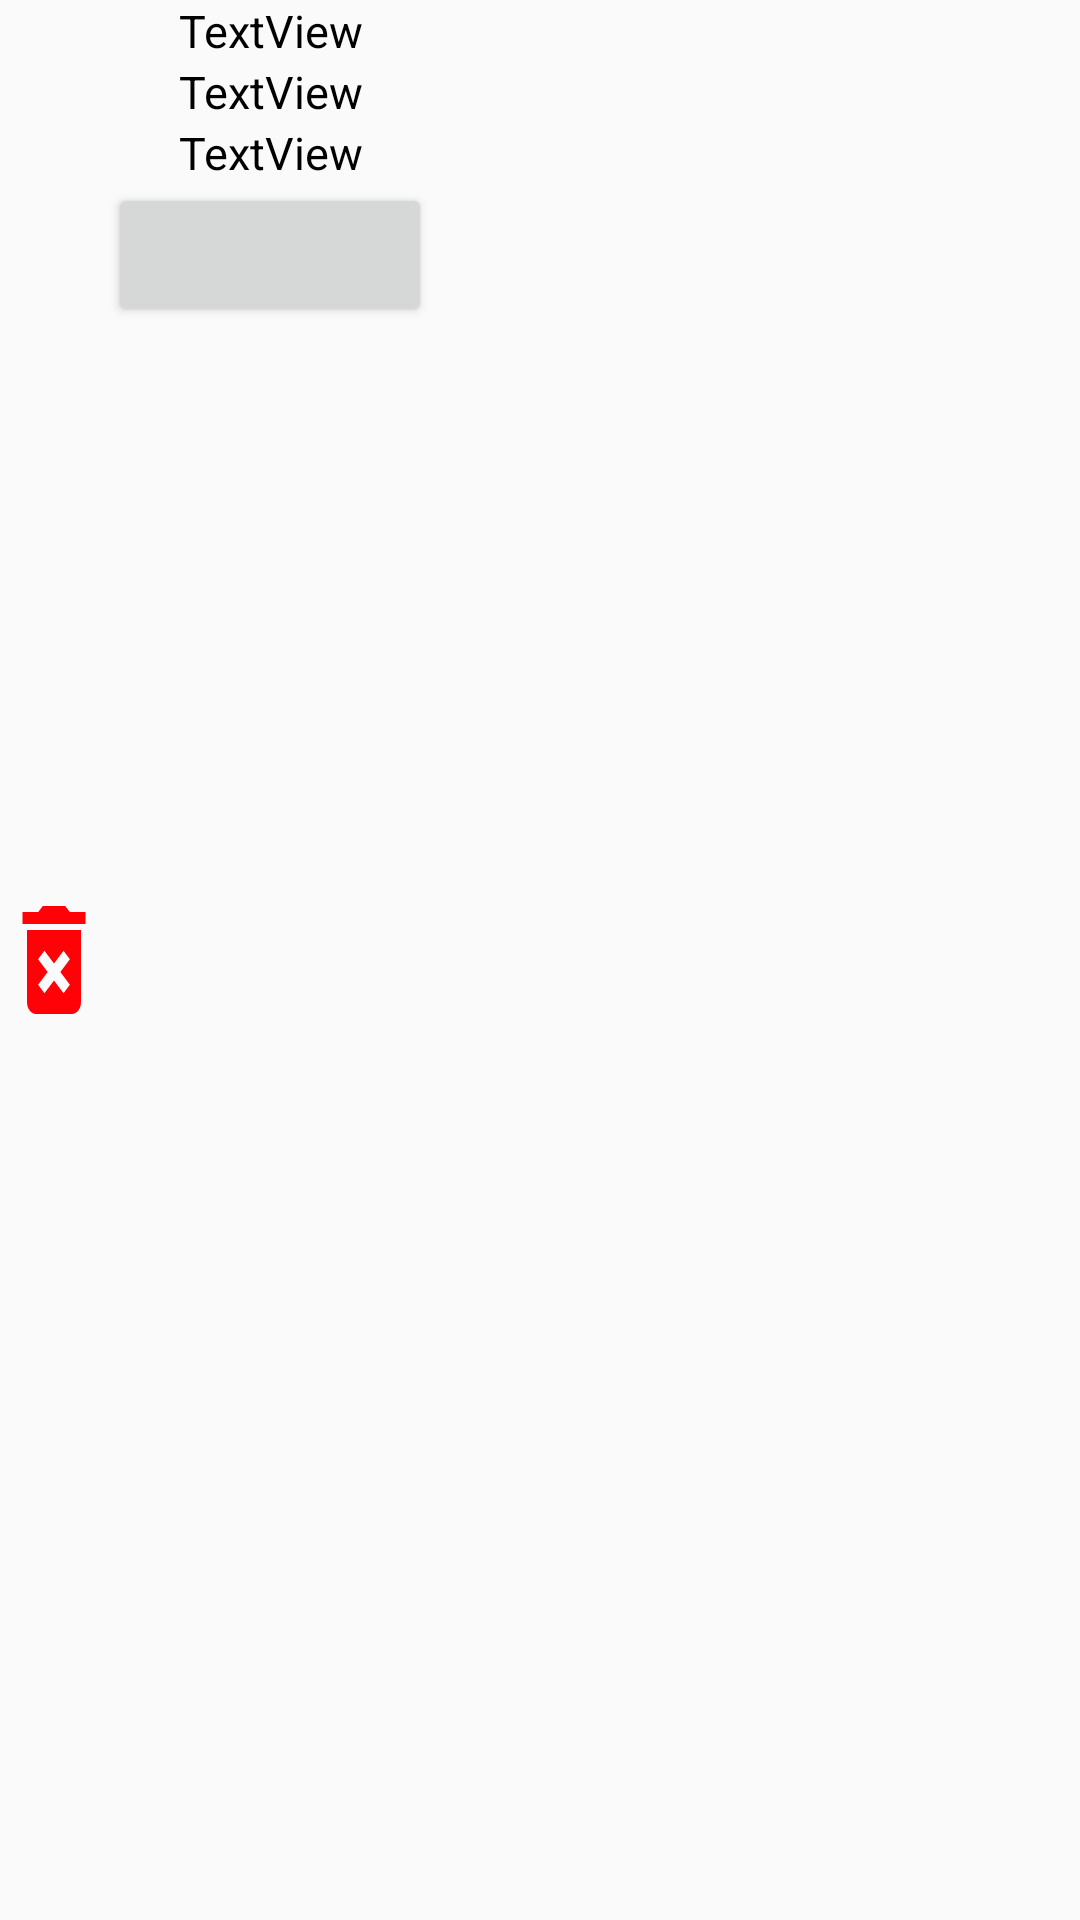

Icons on this 1080*1920 Android screen, each with its box as (x1, y1, x2, y2):
icdelete: (22, 906, 86, 1014)
